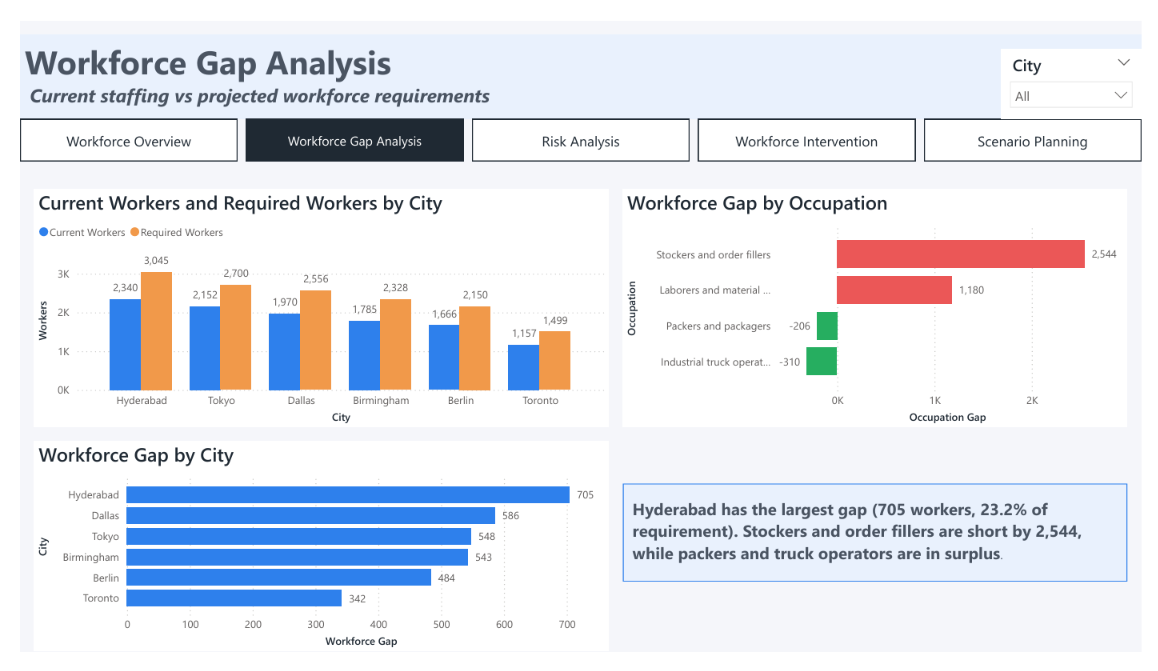

Layout of this report page (visuals, bound fields, positions):
{"tool":"powerbi","page":{"name":"Workforce Gap Analysis","canvas":[1280,720],"ordinal":1},"visuals":[{"type":"textbox","box":[0,16,1280,96],"z":0},{"type":"clusteredColumnChart","fields":{"Category":["facilities.city"],"Y":["_Measures.Current Workers","_Measures.Required Workers"]},"box":[16,192,656,272],"z":1000},{"type":"clusteredBarChart","fields":{"Category":["facilities.city"],"Y":["_Measures.Workforce Gap"]},"box":[16,480,656,240],"z":2000},{"type":"clusteredBarChart","title":"Workforce Gap by Occupation","fields":{"Y":["_Measures.Occupation Gap"],"Category":["vw_occupation_gap.occupation"]},"box":[688,192,576,272],"z":3000},{"type":"textbox","box":[688,528,576,112],"z":4000},{"type":"pageNavigator","box":[0,112,1280,48],"z":5000},{"type":"slicer","fields":{"Values":["facilities.city"]},"box":[1120,32,160,80],"z":6000}]}

Visuals, with their boxes in screenshot pixels (x1, y1, x2, y2), scaled from the page's 1280x720 canvas onto the 1158x671 screenshot:
textbox: x1=0 y1=15 x2=1157 y2=104
clusteredColumnChart - facilities.city x _Measures.Current Workers: x1=14 y1=179 x2=608 y2=432
clusteredBarChart - facilities.city x _Measures.Workforce Gap: x1=14 y1=447 x2=608 y2=670
"Workforce Gap by Occupation" clusteredBarChart: x1=622 y1=179 x2=1144 y2=432
textbox: x1=622 y1=492 x2=1144 y2=596
pageNavigator: x1=0 y1=104 x2=1157 y2=149
slicer - facilities.city: x1=1013 y1=30 x2=1157 y2=104
